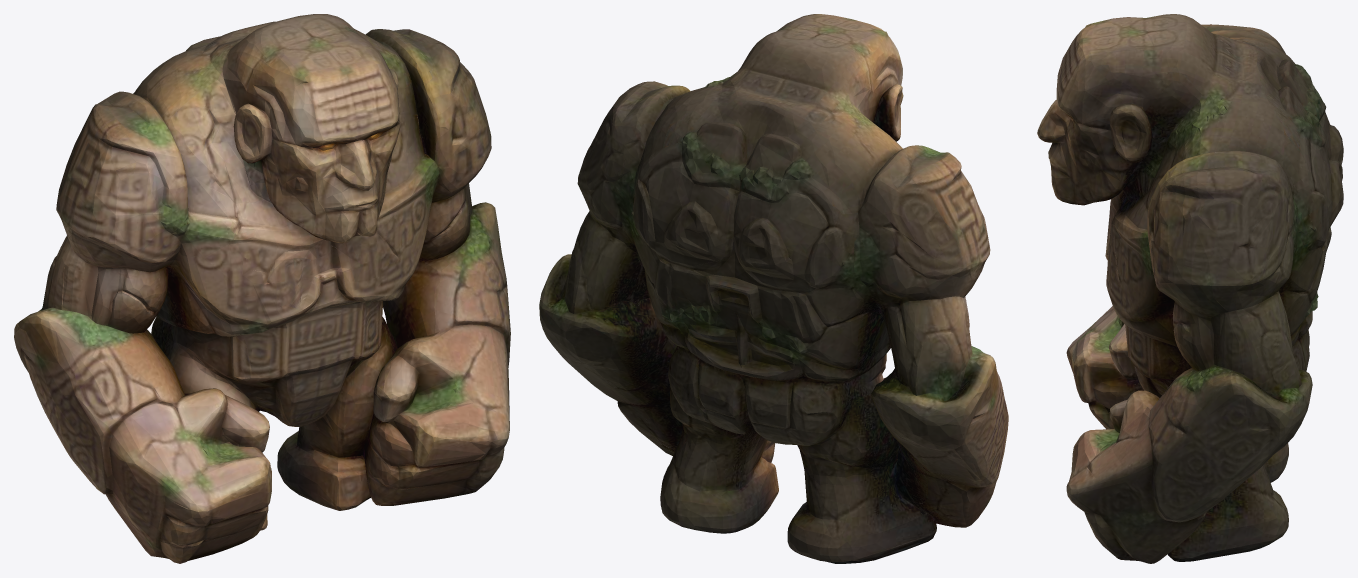
Rendered from giantstoneSentry.glb.
The picture shows the model from 3 angles, left to right: view 1: azimuth 30°, elevation 25°; view 2: azimuth 150°, elevation 25°; view 3: azimuth 270°, elevation 25°; orthographic projection. The views are drawn at different scales.
Visible parts, largest first — view 1: world; view 2: world; view 3: world.
Boxes of the visible parts, x1=… form: world: x1=14, y1=14, x2=510, y2=563; world: x1=539, y1=14, x2=1008, y2=563; world: x1=1037, y1=14, x2=1343, y2=563.
Bounding box in the file's own units: 0.9785 × 0.9977 × 0.5853.
1 material, 1 textured.
